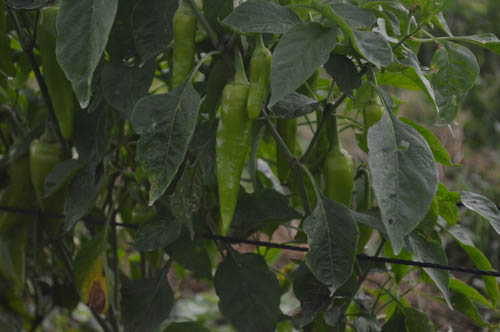ChiliPepper: (215, 85, 248, 237), (38, 8, 74, 136), (28, 142, 62, 208), (170, 11, 196, 85), (325, 153, 356, 202), (245, 50, 268, 115)
